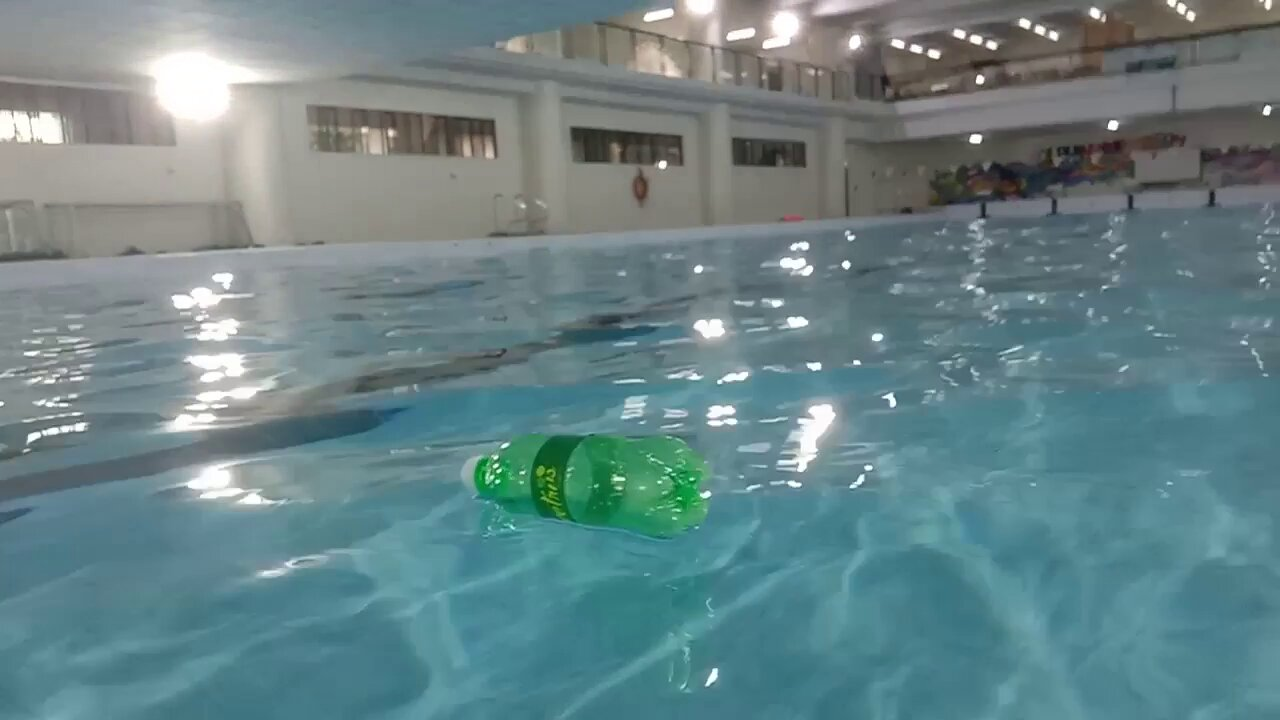plastic_bottle: (461, 434, 707, 530)
